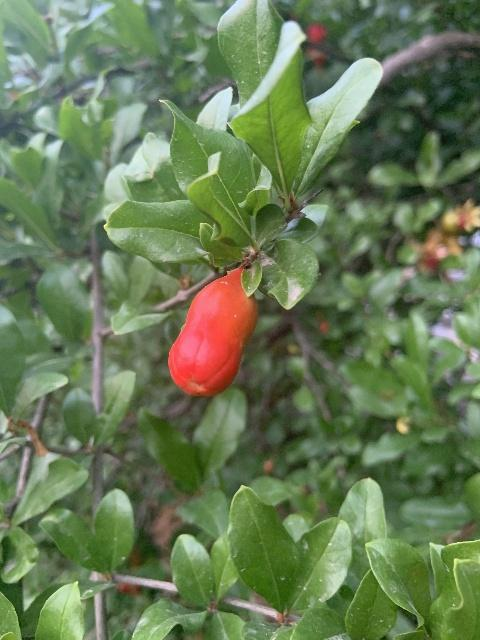bud: (168, 267, 257, 399)
